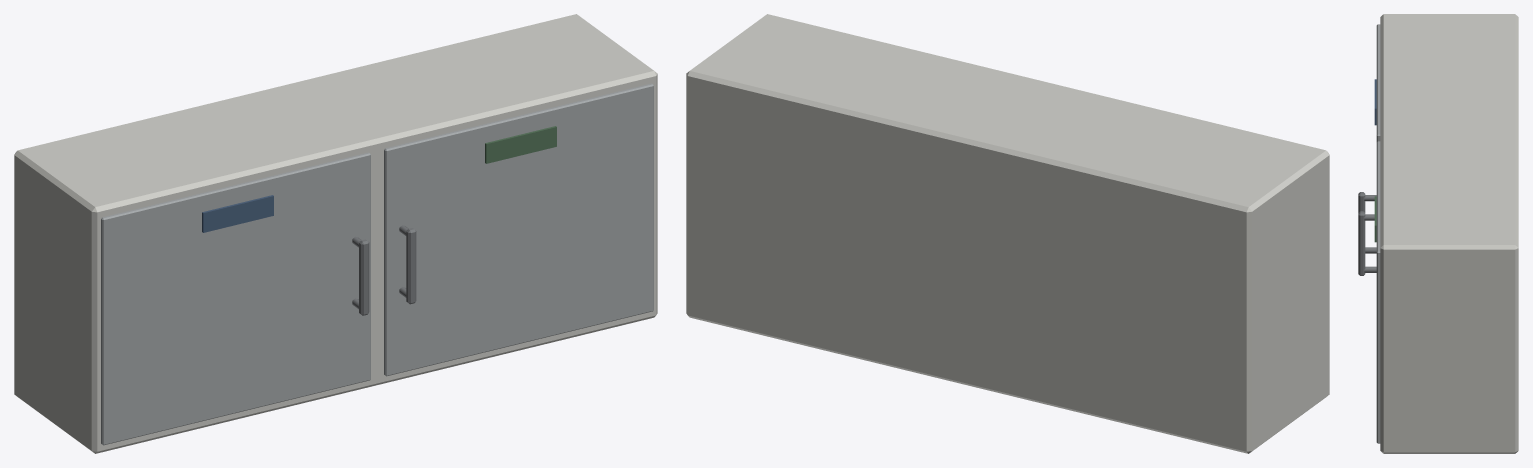
The model's file is astro_wall_cabinet.fbx.
3 renders of one model, left to right at view 1: azimuth 30°, elevation 25°; view 2: azimuth 150°, elevation 25°; view 3: azimuth 270°, elevation 25°, orthographic. The views are drawn at different scales.
Visible parts, largest first — view 1: WallCabinet_Body; view 2: WallCabinet_Body; view 3: WallCabinet_Body.
Boxes of the visible parts, x1,y1,x2,y2 form: WallCabinet_Body: (14, 14, 657, 453); WallCabinet_Body: (686, 14, 1329, 453); WallCabinet_Body: (1358, 14, 1518, 453).
Bounding box in the file's own units: 240 × 103 × 69.5.
